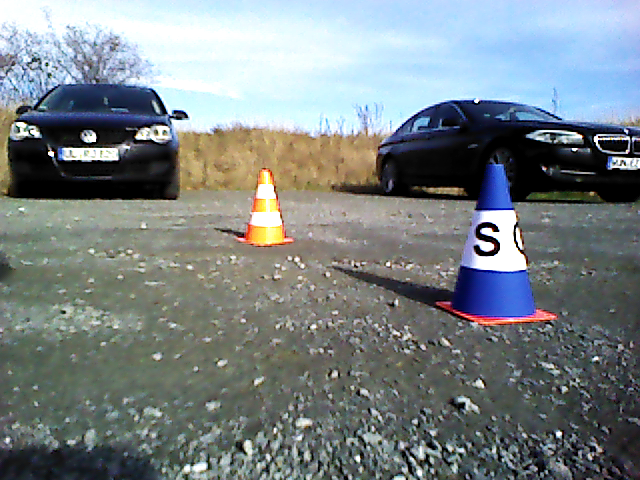bluecone: (454, 164, 535, 315)
orangeconesmall: (240, 168, 292, 246)
